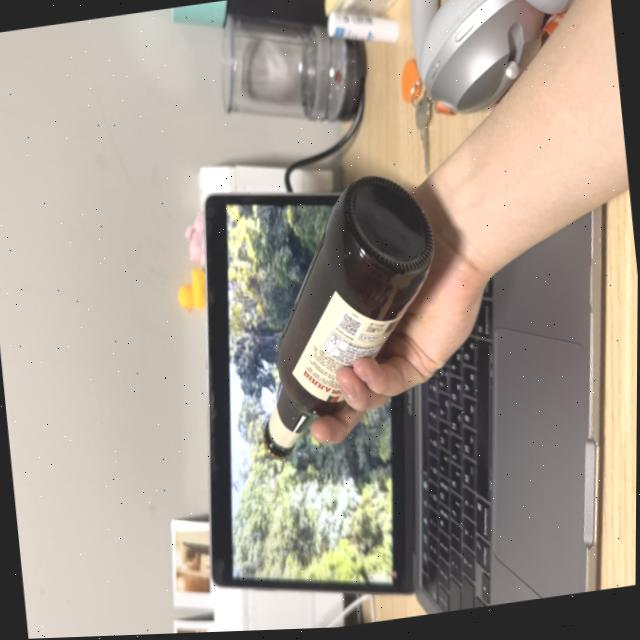beer: (230, 165, 459, 471)
